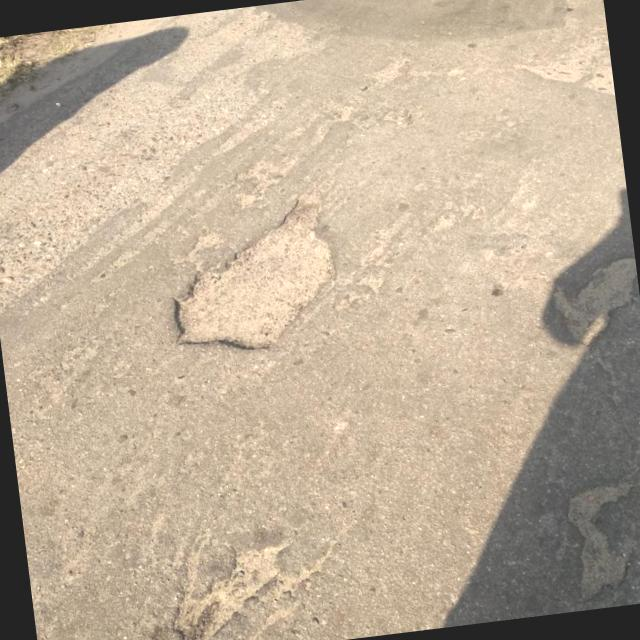Lubang: (178, 194, 334, 348)
